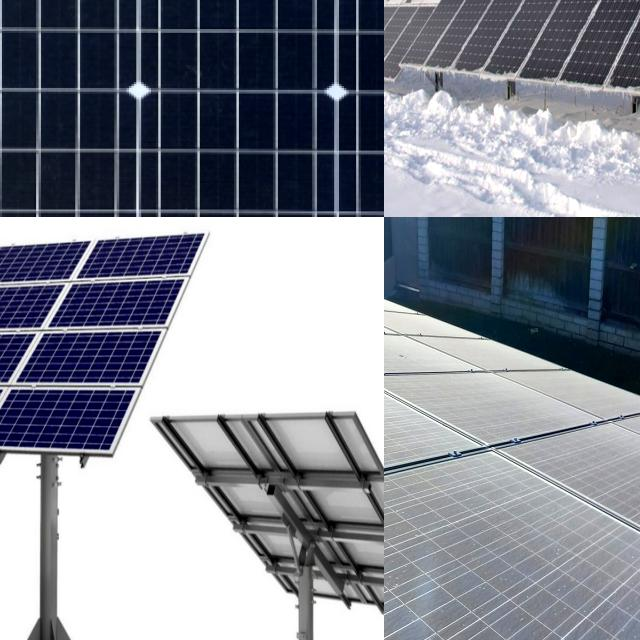crack: (0, 0, 384, 217), (0, 217, 220, 482)
dust: (384, 567, 570, 640), (446, 458, 578, 554), (384, 293, 486, 362), (584, 516, 640, 632), (384, 370, 439, 487), (423, 374, 542, 428), (384, 377, 451, 450), (384, 288, 434, 382), (586, 412, 640, 492), (384, 492, 450, 551), (384, 221, 413, 345), (384, 244, 446, 299)
panel: (517, 0, 567, 39), (571, 0, 640, 25), (391, 0, 441, 28), (451, 0, 513, 19), (384, 13, 403, 66), (384, 0, 411, 25)
